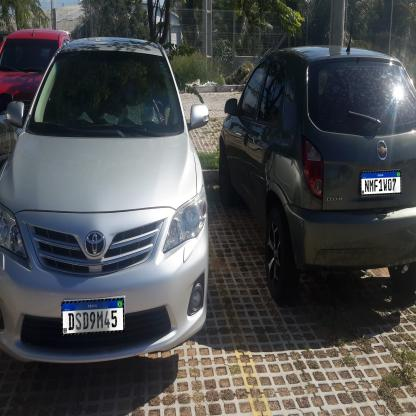PlacaM: (62, 298, 124, 336), (360, 170, 402, 196)
